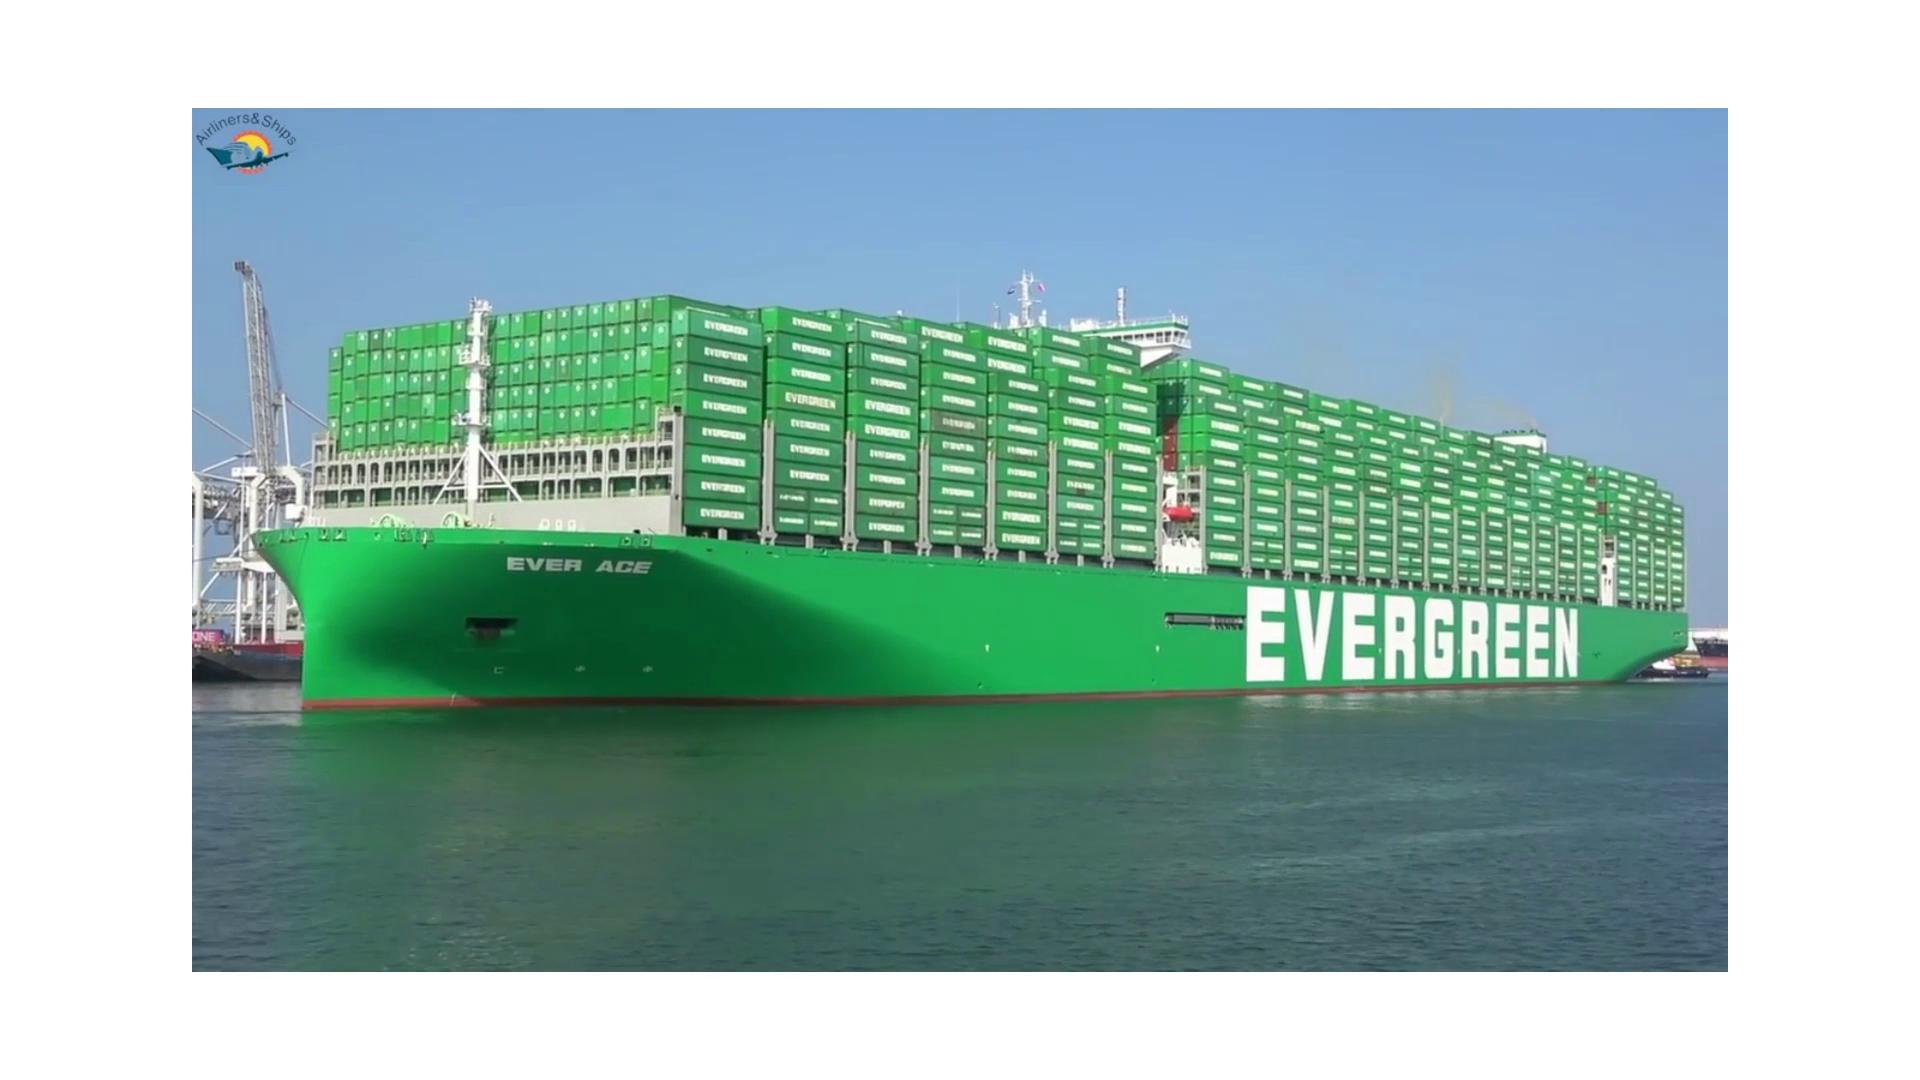OCR: (1211, 558, 1611, 704), (497, 537, 666, 593)
